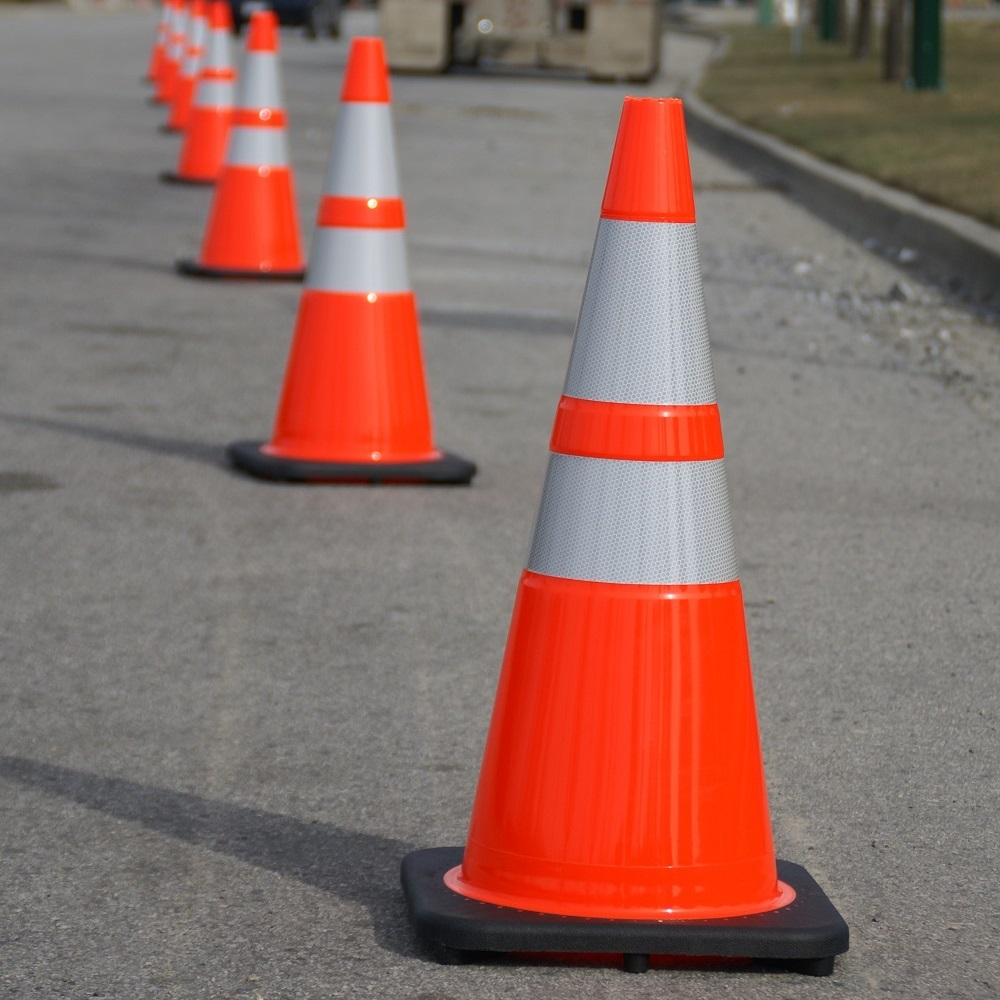cone: (402, 95, 853, 965), (225, 32, 488, 490), (176, 11, 335, 278), (161, 5, 275, 187), (163, 1, 234, 132)
